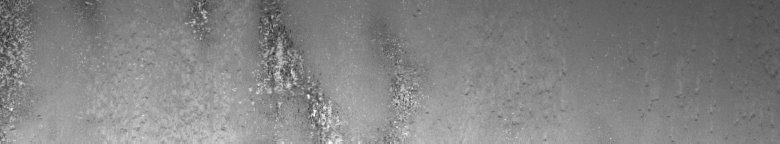hc: (185, 4, 332, 135)
